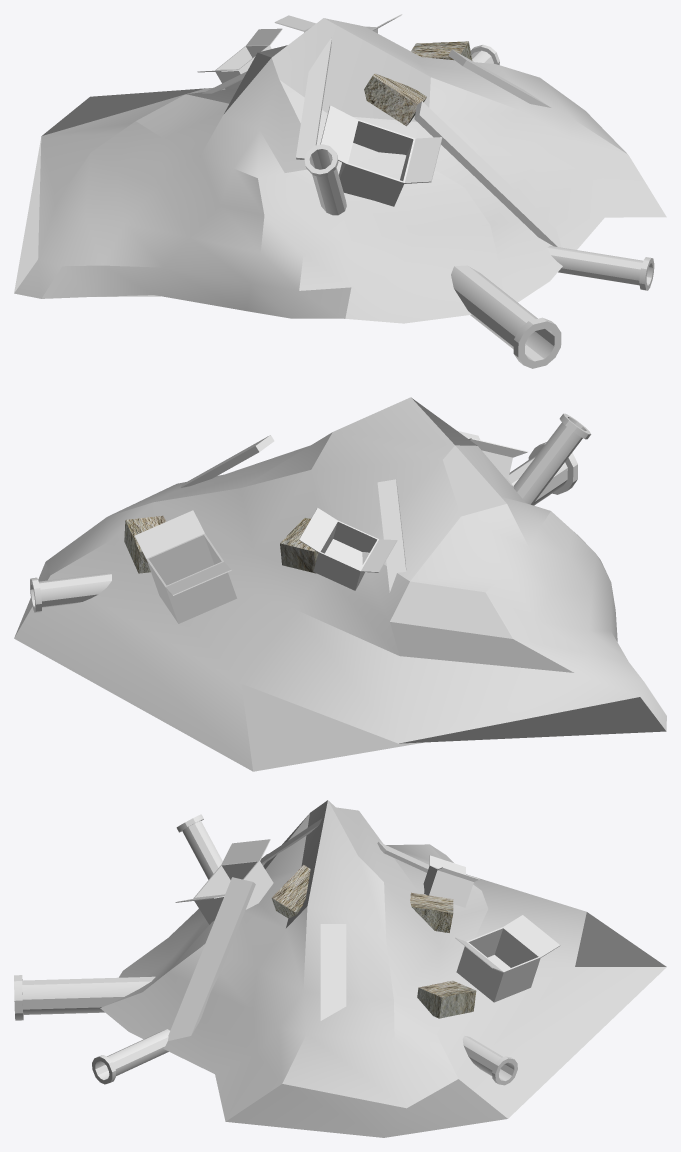
File: Prefab Chatarra.fbx
3 views of the same model, one above another, from view 1: azimuth 30°, elevation 25°; view 2: azimuth 150°, elevation 25°; view 3: azimuth 270°, elevation 25° (orthographic). The views are drawn at different scales.
Visible parts, largest first — view 1: Cube.073, Cube.041, Cube.052, Cube.046, Cube.050, Cube.047, Cube.051, Cube.044, Cube.040, Cube.049, Cube.043; view 2: Cube.073, Cube.042, Cube.040, Cube.051, Cube.039, Cube.048, Cube.052, Cube.045, Cube.043, Cube.041, Cube.049; view 3: Cube.073, Cube.042, Cube.046, Cube.052, Cube.041, Cube.049, Cube.050, Cube.040, Cube.043, Cube.039, Cube.051, Cube.045 (+1 smaller).
Part boxes in pixels (box(x1,y1,x2,y2)): Cube.073: box(14, 18, 666, 323); Cube.041: box(320, 105, 442, 206); Cube.052: box(451, 265, 561, 368); Cube.046: box(414, 101, 561, 247); Cube.050: box(547, 246, 654, 290); Cube.047: box(296, 37, 331, 159); Cube.051: box(304, 144, 346, 215); Cube.044: box(364, 73, 426, 126); Cube.040: box(197, 28, 282, 89); Cube.049: box(448, 49, 551, 107); Cube.043: box(411, 41, 472, 60); Cube.073: box(14, 397, 666, 771); Cube.042: box(135, 510, 236, 623); Cube.040: box(299, 508, 397, 590); Cube.051: box(513, 413, 591, 504); Cube.039: box(30, 573, 111, 612); Cube.048: box(377, 479, 406, 592); Cube.052: box(508, 442, 577, 505); Cube.045: box(280, 517, 318, 573); Cube.043: box(124, 515, 166, 573); Cube.041: box(457, 430, 528, 479); Cube.049: box(180, 435, 274, 487); Cube.073: box(100, 800, 666, 1137); Cube.042: box(455, 915, 560, 1002); Cube.046: box(168, 877, 255, 1040); Cube.052: box(14, 975, 155, 1020); Cube.041: box(175, 839, 273, 924); Cube.049: box(320, 924, 346, 1020); Cube.050: box(92, 1029, 169, 1084); Cube.040: box(423, 855, 479, 907); Cube.043: box(417, 980, 476, 1018); Cube.039: box(462, 1035, 517, 1085); Cube.051: box(176, 814, 222, 879); Cube.045: box(410, 892, 453, 932).
Size of the model in its own units: 2292 by 888 by 2518.
